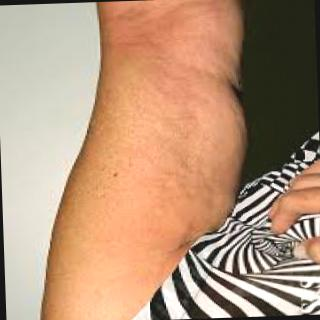urticaria: (111, 13, 217, 56)
